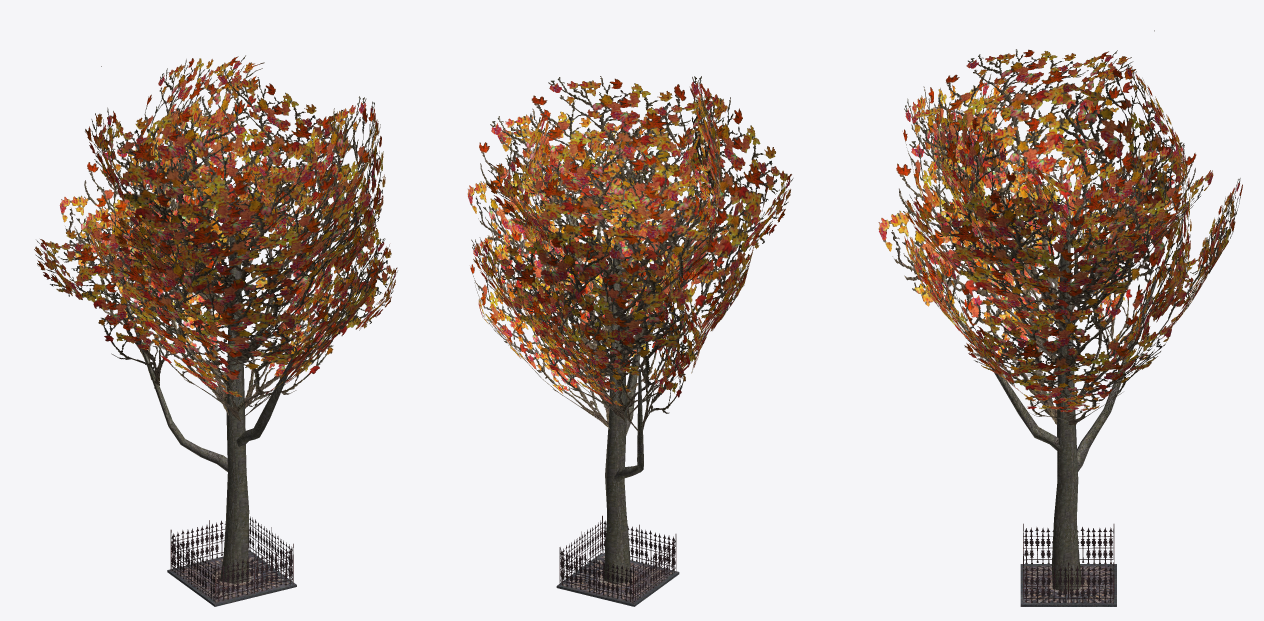
File: tree3b_base_leaves.fbx
3 views of the same model, side by side, from view 1: azimuth 30°, elevation 25°; view 2: azimuth 150°, elevation 25°; view 3: azimuth 270°, elevation 25° (orthographic). The views are drawn at different scales.
Visible parts, largest first — view 1: mesh_0, mesh_1, mesh_2, mesh_3; view 2: mesh_0, mesh_1, mesh_2, mesh_3; view 3: mesh_0, mesh_1, mesh_2, mesh_3.
Boxes of the visible parts, x1,y1,x2,y2 form: mesh_0: (34, 55, 397, 421); mesh_1: (126, 232, 296, 583); mesh_2: (170, 513, 293, 603); mesh_3: (167, 550, 296, 606); mesh_0: (467, 76, 793, 436); mesh_1: (604, 242, 645, 584); mesh_2: (559, 515, 676, 603); mesh_3: (556, 553, 679, 606); mesh_0: (878, 30, 1242, 425); mesh_1: (973, 220, 1156, 591); mesh_2: (1023, 523, 1114, 603); mesh_3: (1020, 564, 1116, 606).
Size of the model in its own units: 774 by 1229 by 860.
4 materials, 4 textured.
